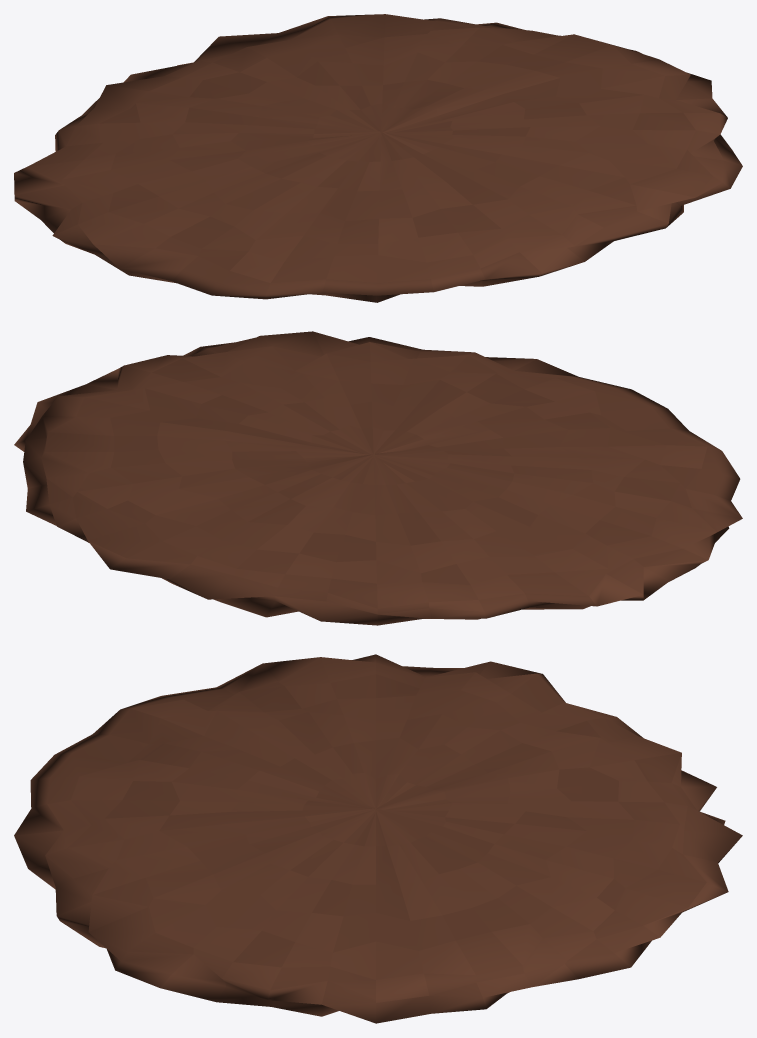
File: DateSyrup.glb
3 renders of one model, top to bottom at view 1: azimuth 30°, elevation 25°; view 2: azimuth 150°, elevation 25°; view 3: azimuth 270°, elevation 25°, orthographic. The views are drawn at different scales.
Parts seen in each view (by area): view 1: DateSyrup; view 2: DateSyrup; view 3: DateSyrup.
Boxes of the visible parts, x1,y1,x2,y2 form: DateSyrup: (14, 14, 742, 302); DateSyrup: (14, 331, 742, 625); DateSyrup: (14, 654, 742, 1023).
Size of what is drawn, in the model's own units: 0.0741 by 0.00578 by 0.0629.
